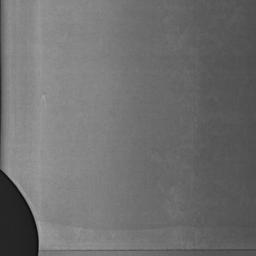Crescent gap: (0, 172, 39, 256)
